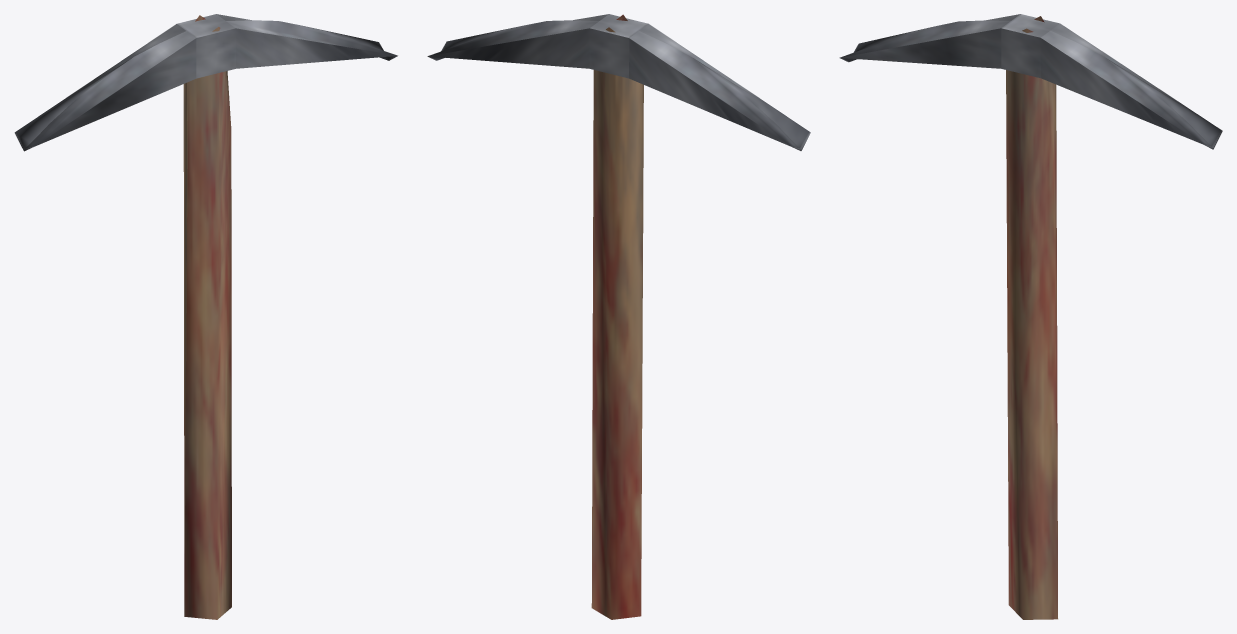
Rendered from Pickaxe.fbx.
The picture shows the model from 3 angles, left to right: view 1: azimuth 30°, elevation 25°; view 2: azimuth 150°, elevation 25°; view 3: azimuth 330°, elevation 25°; orthographic projection.
Parts seen in each view (by area): view 1: Pickaxe; view 2: Pickaxe; view 3: Pickaxe.
Part boxes in pixels (bbox=[...]): Pickaxe: bbox=[14, 14, 397, 619]; Pickaxe: bbox=[427, 14, 810, 619]; Pickaxe: bbox=[839, 14, 1222, 619].
Bounding box in the file's own units: 69.31 × 108 × 6.43.
2 materials, 2 textured.
